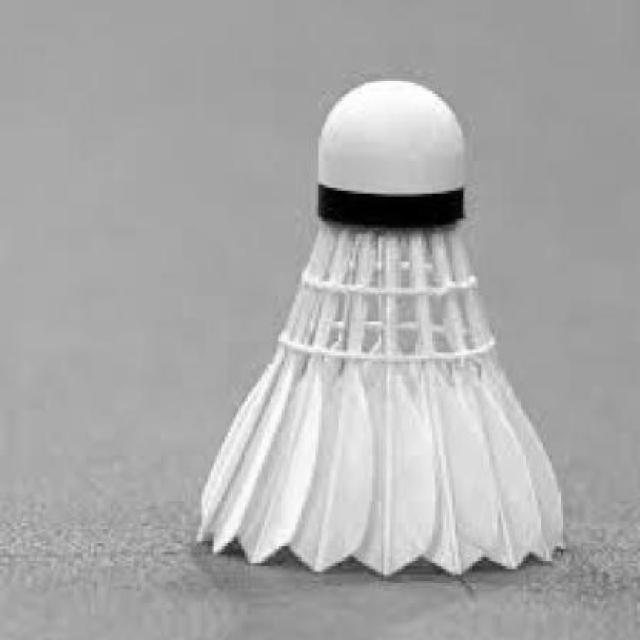Shuttlecock: (194, 74, 572, 583)
